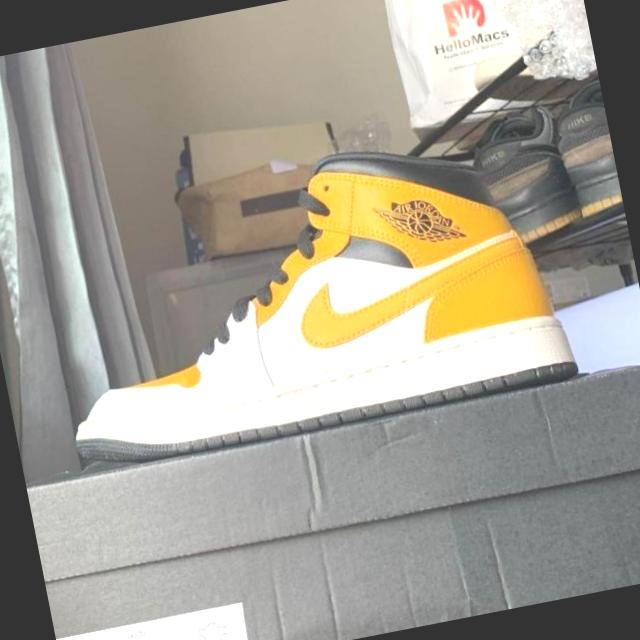nike_original_jordan: (28, 116, 586, 483)
